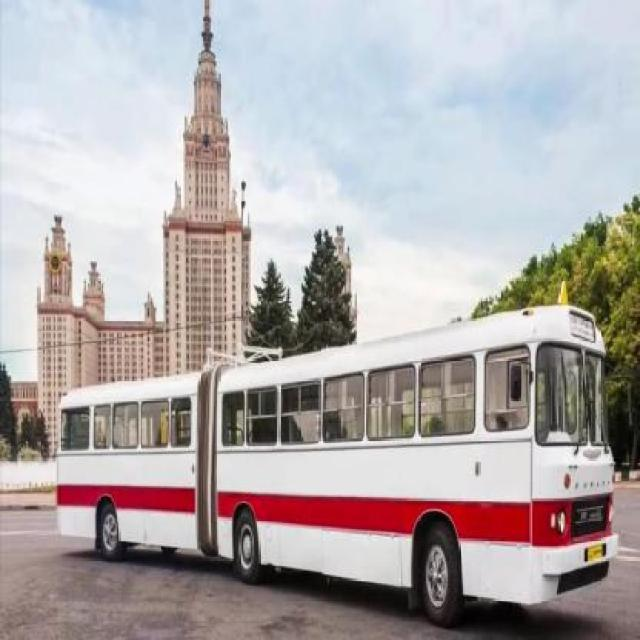bus: (57, 308, 608, 622)
